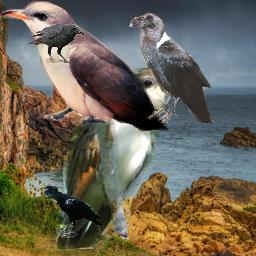Crow: (129, 12, 213, 123), (42, 185, 104, 238), (28, 24, 84, 63)
Cuckoo: (56, 68, 187, 249), (0, 1, 169, 132)
